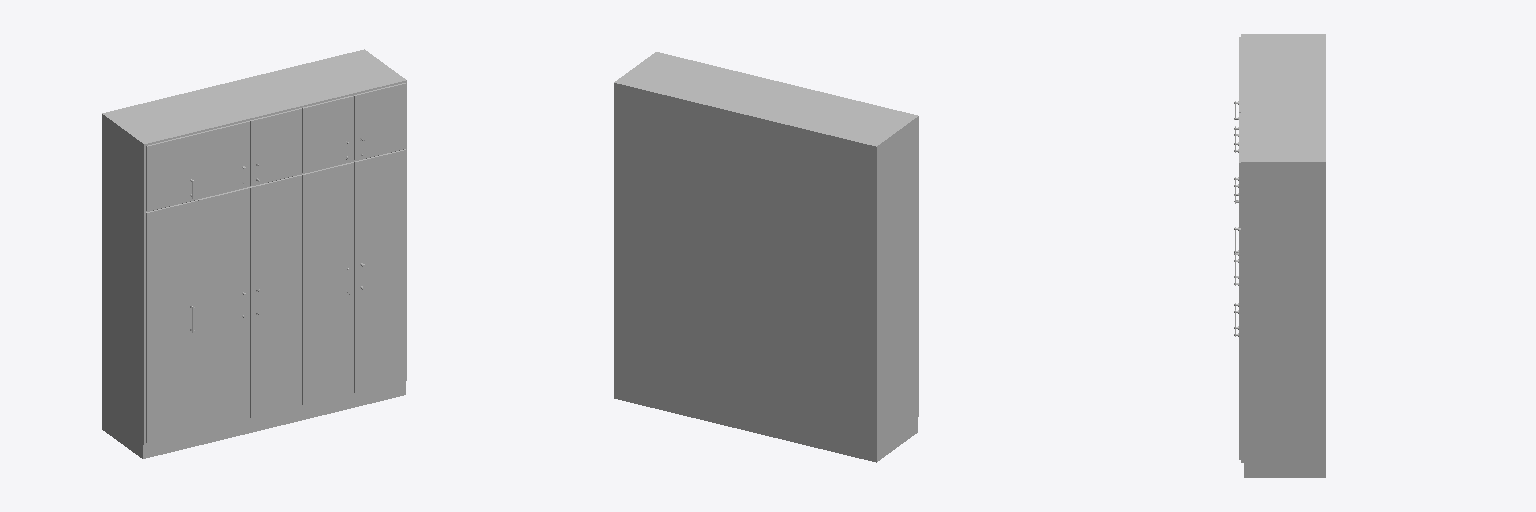
The model's file is cabinet.obj.
3 renders of one model, left to right at view 1: azimuth 30°, elevation 25°; view 2: azimuth 150°, elevation 25°; view 3: azimuth 270°, elevation 25°, orthographic.
Visible parts, largest first — view 1: Group_001, Group_019, Group_028, Group_024, Group_027, Group_021, Group_020, Group_025, Group_023, Group_026, Group_022; view 2: Group_001; view 3: Group_001.
Boxes of the visible parts, x1=… form: Group_001: x1=102, y1=49, x2=406, y2=458; Group_019: x1=146, y1=200, x2=198, y2=442; Group_028: x1=302, y1=162, x2=353, y2=404; Group_024: x1=250, y1=175, x2=301, y2=417; Group_027: x1=354, y1=149, x2=405, y2=392; Group_021: x1=198, y1=187, x2=249, y2=430; Group_020: x1=146, y1=133, x2=198, y2=210; Group_025: x1=302, y1=96, x2=353, y2=172; Group_023: x1=250, y1=108, x2=301, y2=185; Group_026: x1=354, y1=83, x2=405, y2=159; Group_022: x1=198, y1=121, x2=249, y2=197; Group_001: x1=614, y1=52, x2=918, y2=462; Group_001: x1=1241, y1=34, x2=1325, y2=477.
Bounding box in the file's own units: 2150 × 2470 × 645.